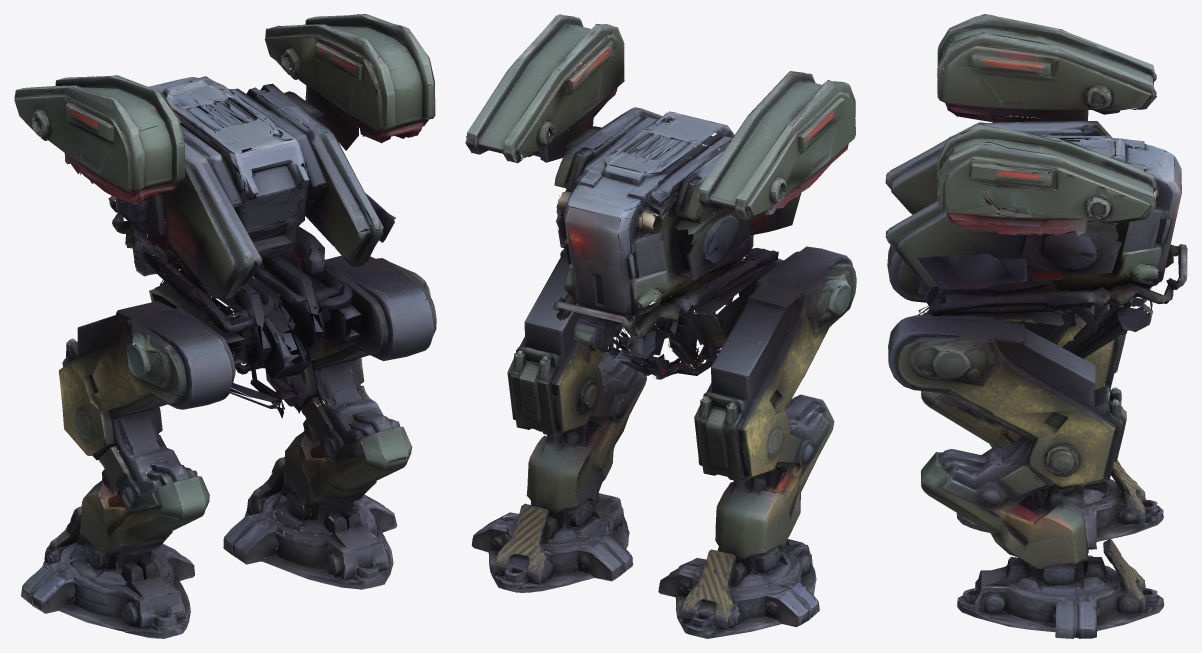
File: mid_87e20.glb
The picture shows the model from 3 angles, left to right: view 1: azimuth 30°, elevation 25°; view 2: azimuth 150°, elevation 25°; view 3: azimuth 270°, elevation 25°; orthographic projection. The views are drawn at different scales.
Parts seen in each view (by area): view 1: hull, thigh_l, foot_r, foot_l, thigh_r, shin_l, shin_r, pelvis; view 2: hull, thigh_l, foot_r, foot_l, thigh_r, shin_l, shin_r, pelvis; view 3: hull, thigh_r, shin_r, foot_r, foot_l, pelvis, thigh_l, shin_l.
Boxes of the visible parts, box(x1,y1,x2,y2) form: hull: box(14, 14, 435, 333); thigh_l: box(58, 301, 235, 466); foot_r: box(223, 473, 397, 589); foot_l: box(21, 521, 194, 638); thigh_r: box(235, 255, 436, 417); shin_l: box(70, 406, 283, 561); shin_r: box(271, 386, 412, 510); pelvis: box(132, 244, 362, 409); hull: box(465, 14, 855, 338); thigh_l: box(656, 246, 856, 482); foot_r: box(471, 493, 633, 592); foot_l: box(658, 539, 819, 638); thigh_r: box(507, 234, 669, 436); shin_l: box(704, 394, 834, 576); shin_r: box(517, 350, 646, 531); pelvis: box(574, 256, 783, 378); hull: box(885, 14, 1187, 319); thigh_r: box(888, 315, 1126, 487); shin_r: box(920, 446, 1121, 572); foot_r: box(957, 554, 1164, 638); foot_l: box(956, 463, 1163, 549); pelvis: box(918, 276, 1152, 366); thigh_l: box(887, 245, 1125, 391); shin_l: box(921, 366, 1122, 478).
Bounding box in the file's own units: 2.96 × 4.27 × 2.41.
Materials: 1 (1 with a texture image).
